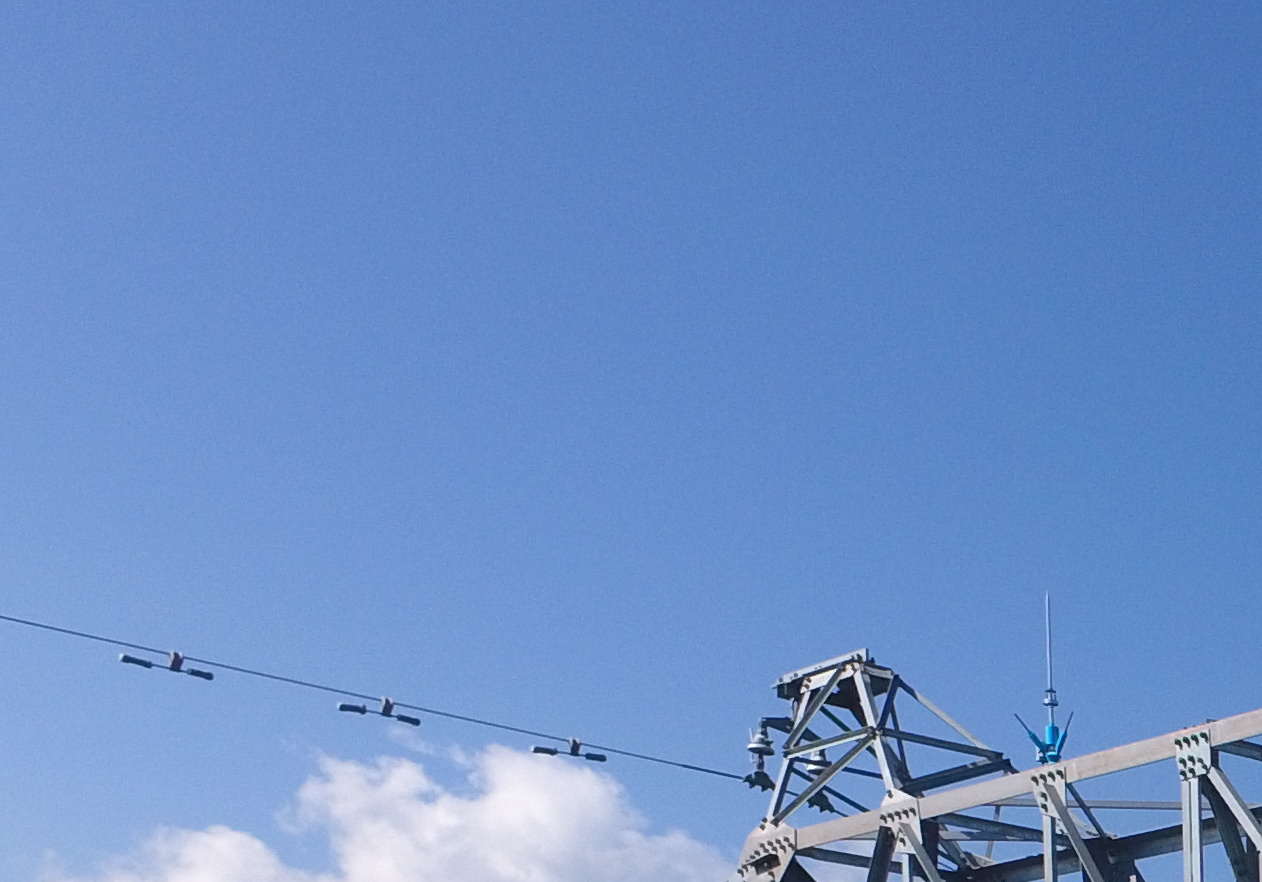damper: (119, 647, 217, 681), (331, 693, 422, 727), (530, 734, 609, 764)
